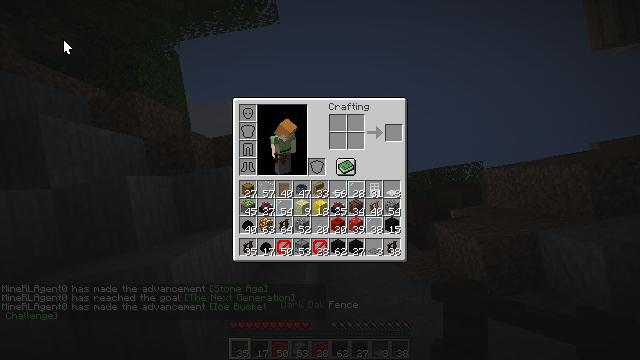cursor: (39, 63, 55, 73)
